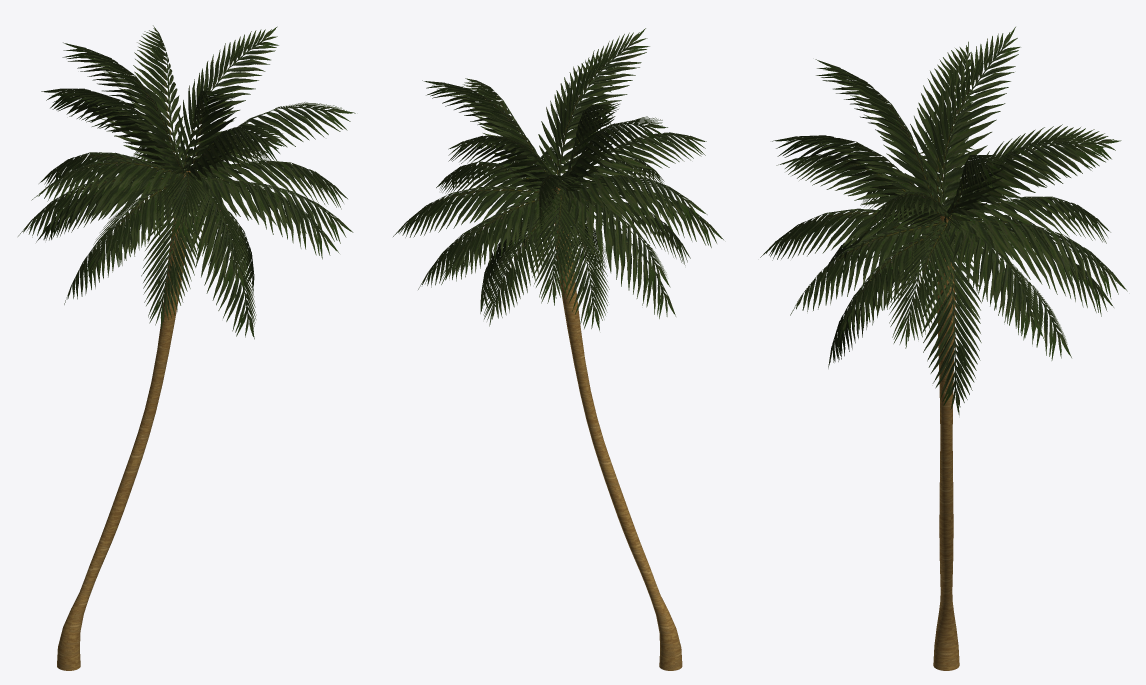
Rendered from SM_tree_01.glb.
The picture shows the model from 3 angles, left to right: view 1: azimuth 30°, elevation 25°; view 2: azimuth 150°, elevation 25°; view 3: azimuth 270°, elevation 25°; orthographic projection. The views are drawn at different scales.
Parts seen in each view (by area): view 1: SM_tree_01; view 2: SM_tree_01; view 3: SM_tree_01.
Part boxes in pixels (x1=…): SM_tree_01: x1=18, y1=25, x2=355, y2=670; SM_tree_01: x1=393, y1=28, x2=723, y2=670; SM_tree_01: x1=760, y1=27, x2=1127, y2=670.
Size of the model in its own units: 12.03 by 21.91 by 11.4.
Materials: 2 (2 with a texture image).
